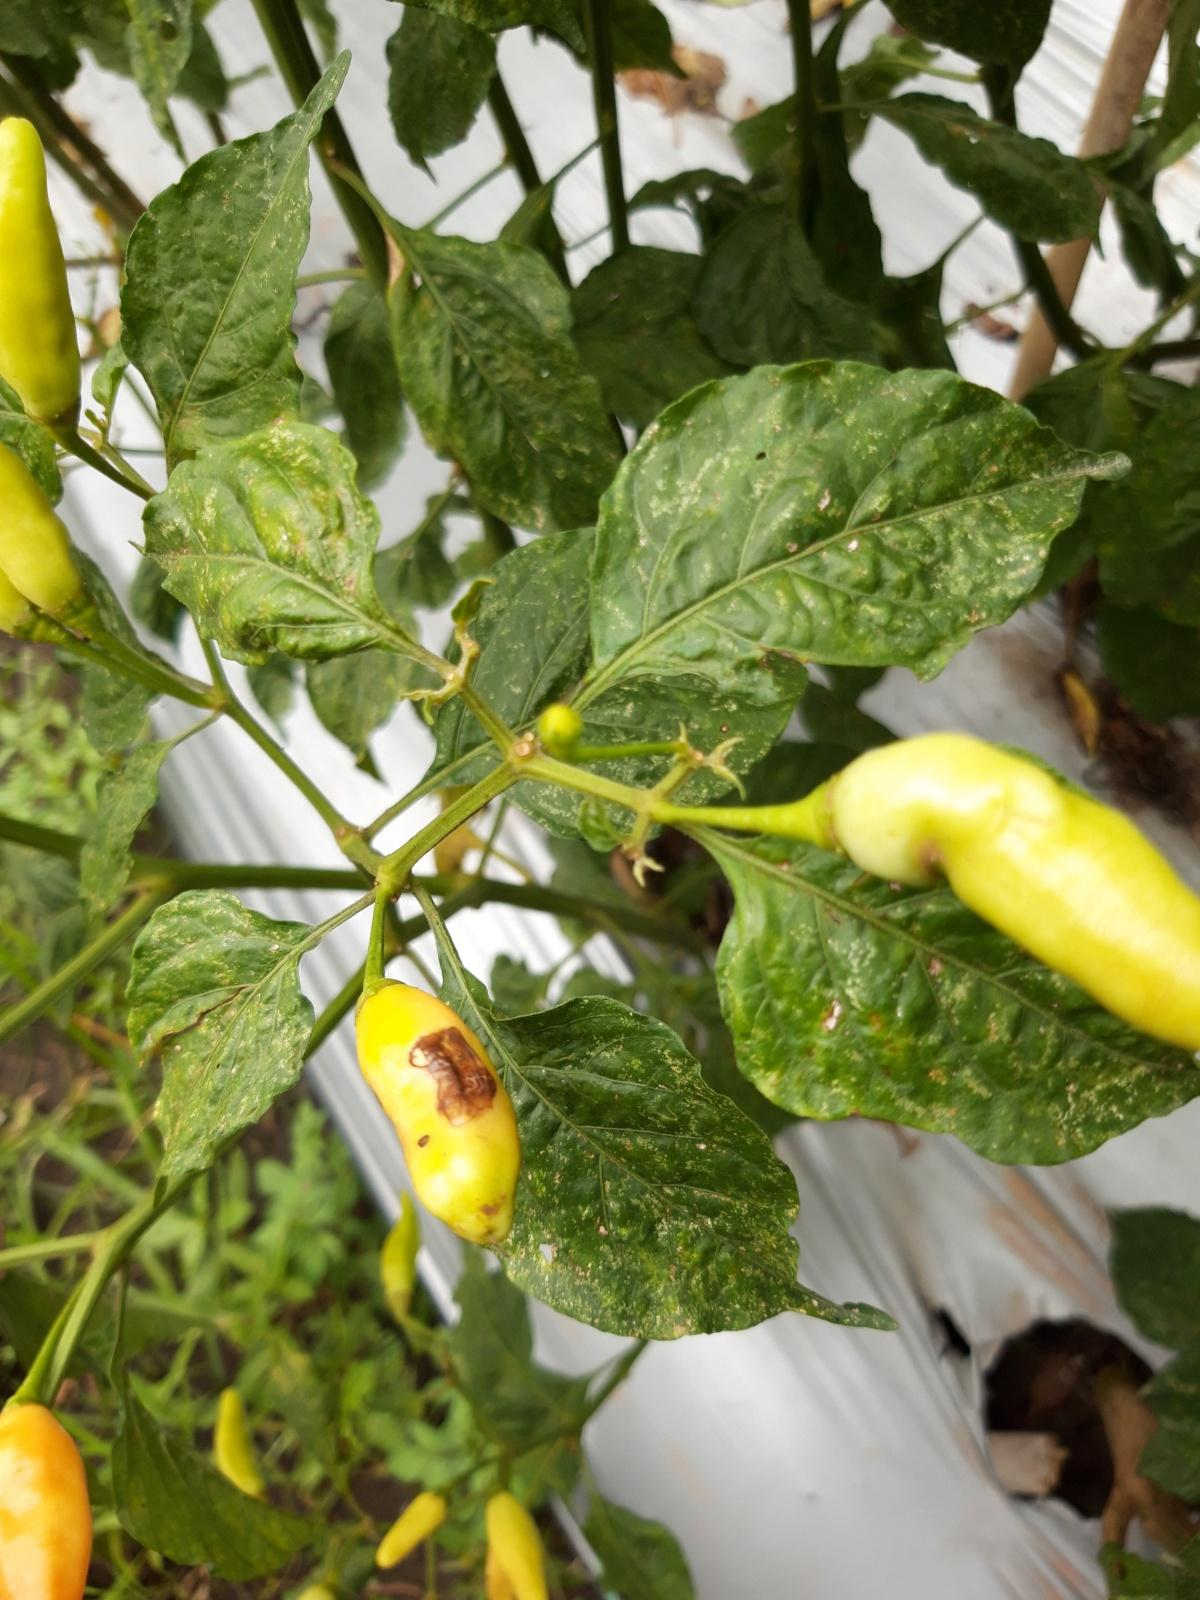cabai_normal: (795, 733, 1200, 1044), (0, 118, 84, 435), (0, 440, 108, 636), (484, 1489, 548, 1600), (376, 1485, 450, 1569), (213, 1387, 266, 1502), (381, 1192, 424, 1311)
lalat_buah: (354, 975, 516, 1243)
